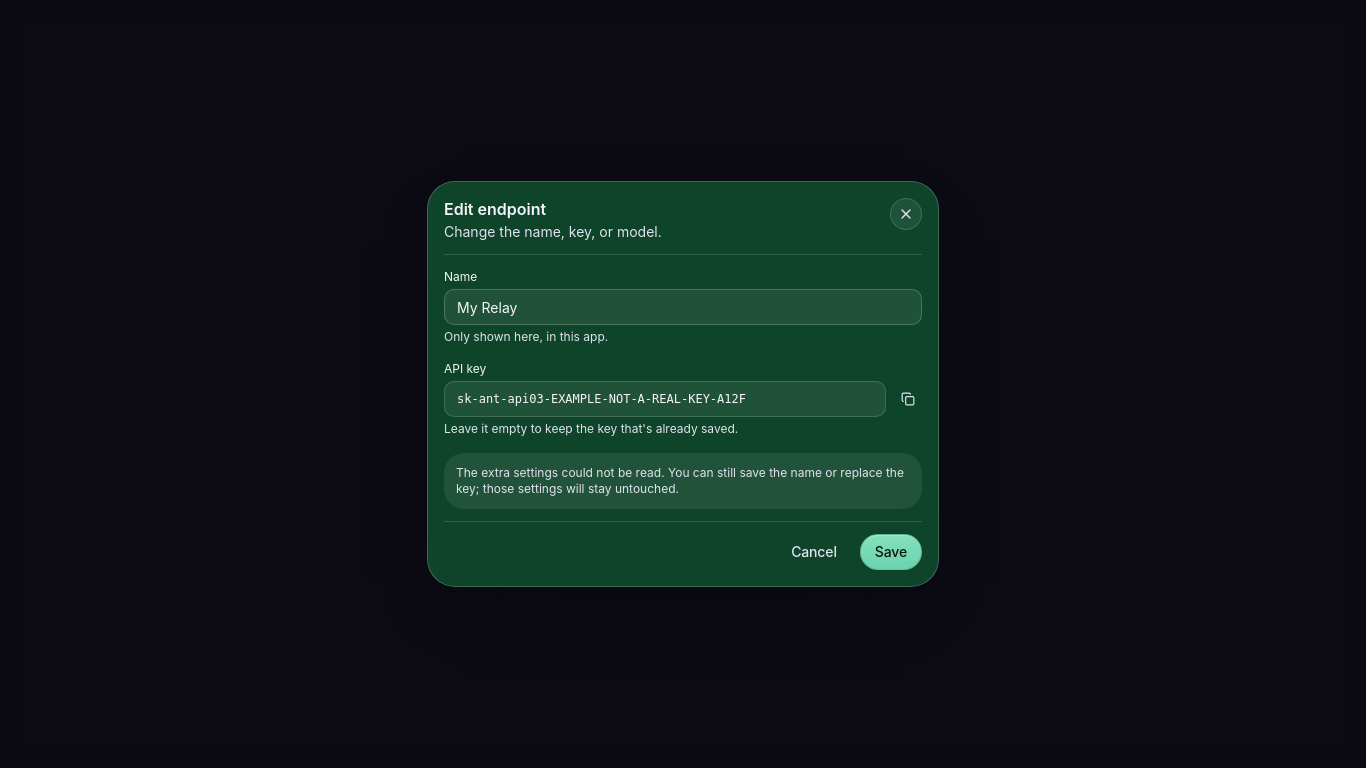
Scenario: ProviderFormModal › refuses to submit an empty name without asking the backend
The width and height of the screenshot is (1366, 768).
Clear the field labelled "Name" at (683, 307), box [444,289,922,325]
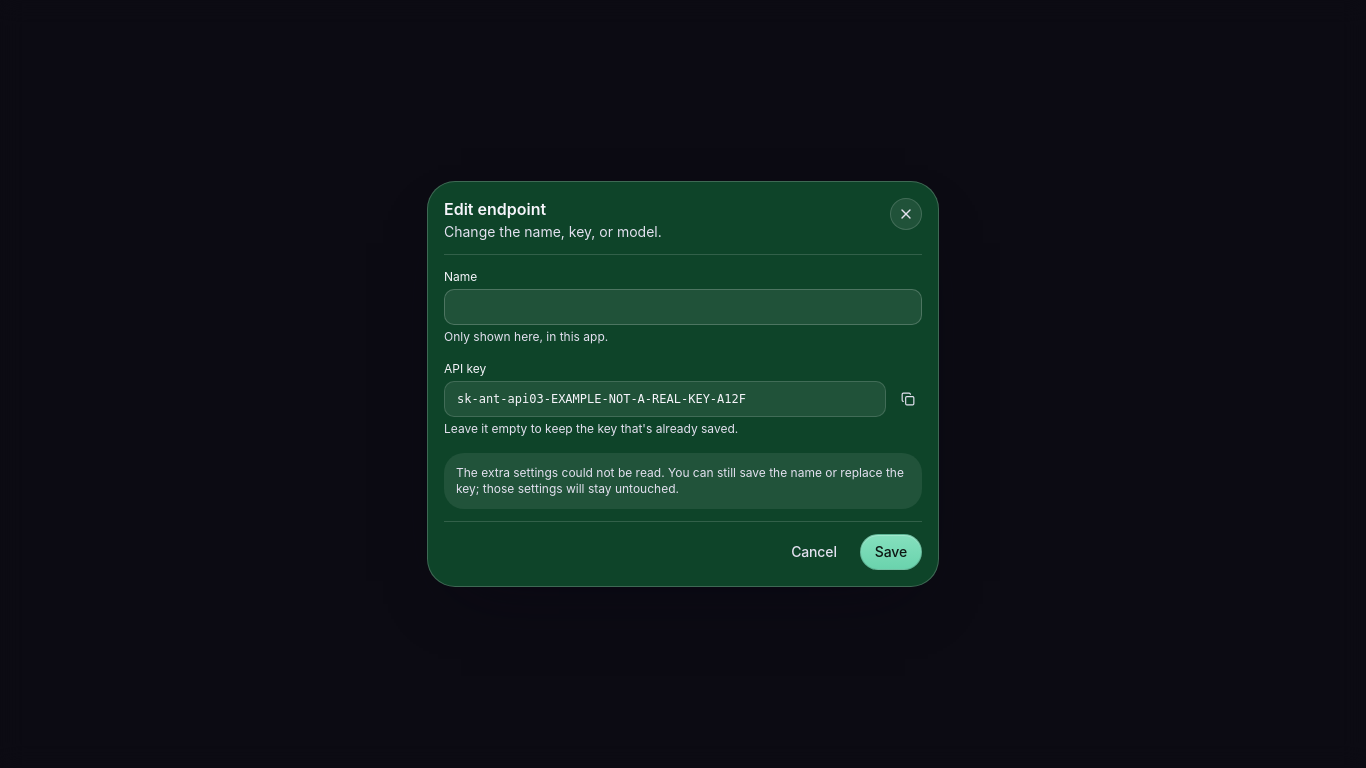
Click the 2nd button named "Save" at (891, 552), box [860,534,922,570]
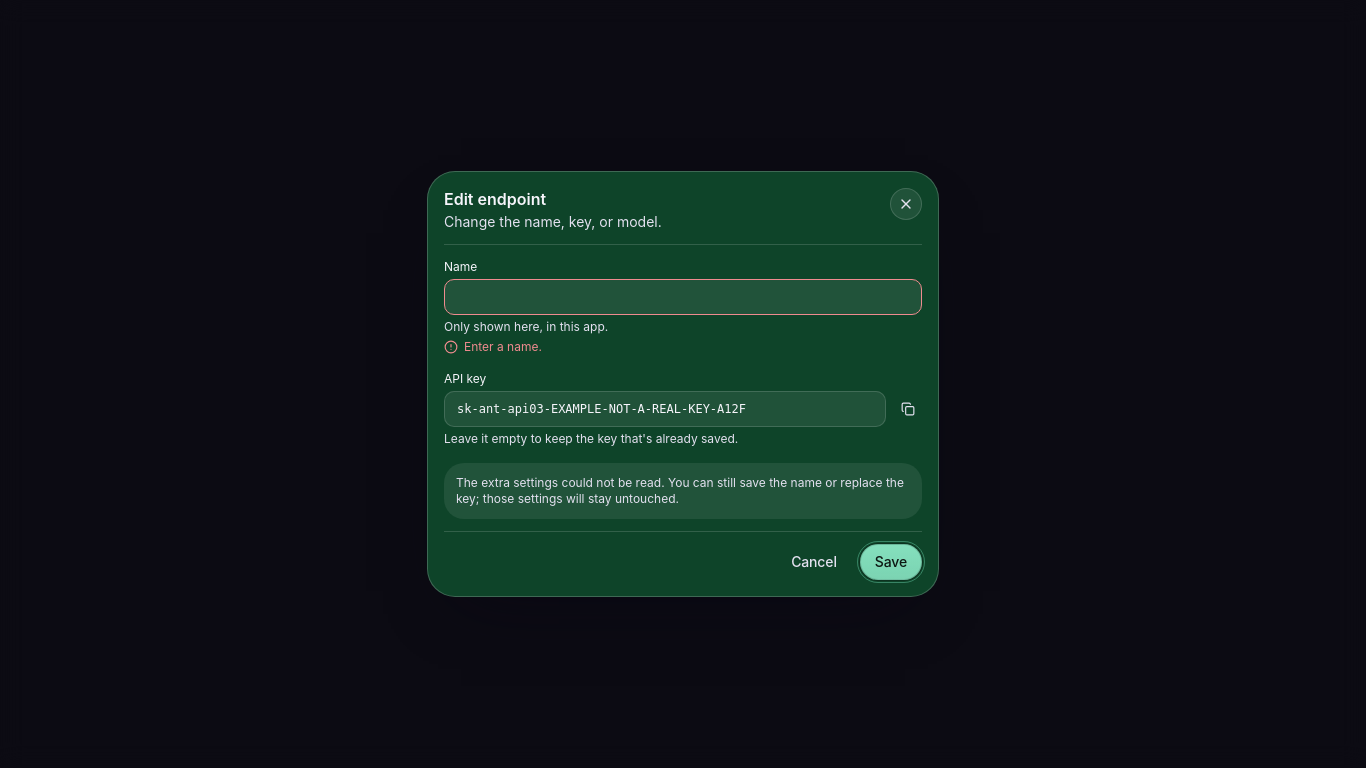
Now the text "Enter a name." is shown, box [444,339,542,354]
